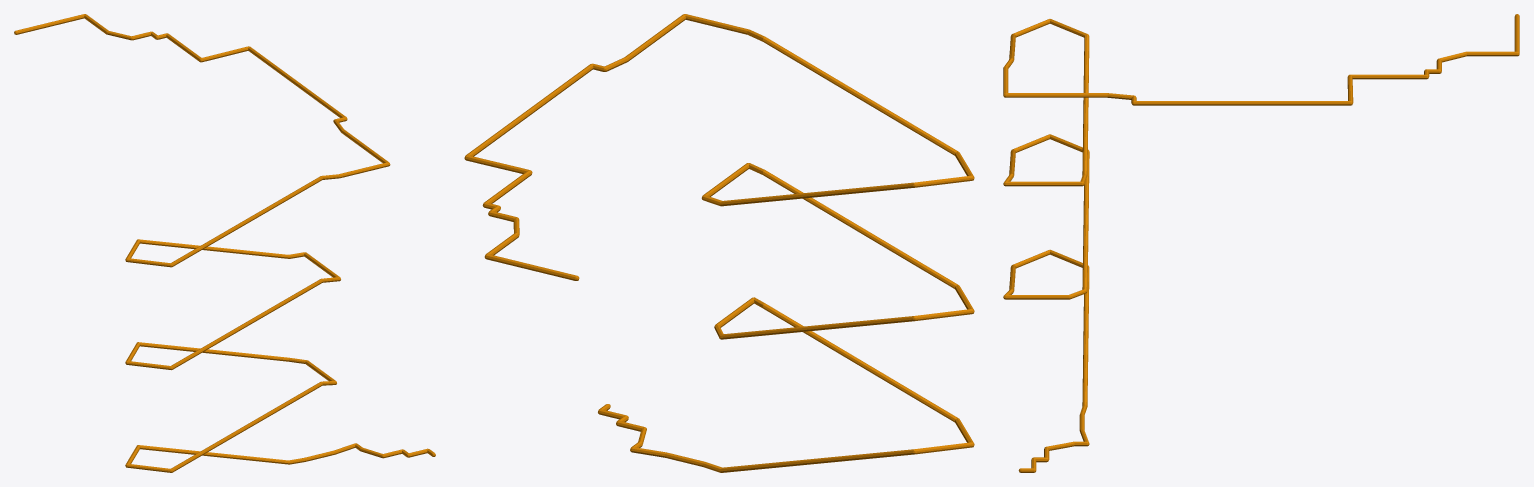
3 renders of one model, left to right at view 1: azimuth 30°, elevation 25°; view 2: azimuth 150°, elevation 25°; view 3: azimuth 270°, elevation 25°, orthographic. The views are drawn at different scales.
Size of the model in its own units: 1513 by 1520 by 2028.
